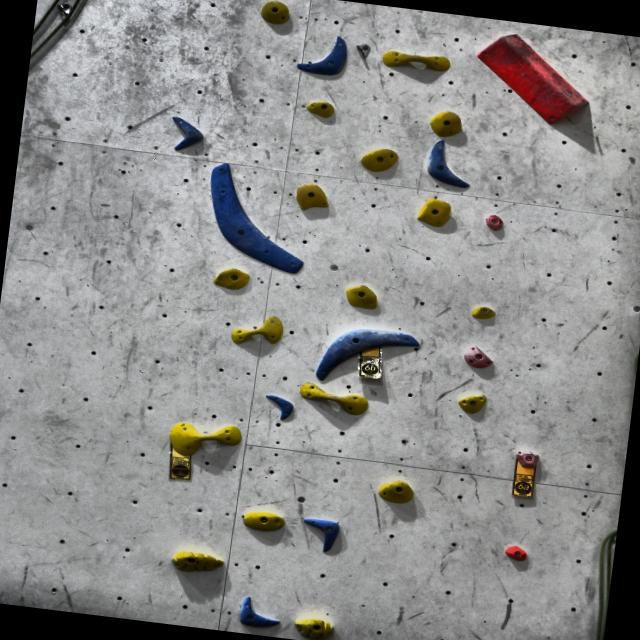Hold: (198, 160, 322, 283), (469, 28, 601, 130), (313, 320, 421, 392), (290, 24, 355, 82), (168, 415, 242, 460), (422, 137, 478, 191), (296, 382, 368, 418), (162, 546, 234, 578), (227, 311, 286, 348), (378, 44, 450, 74), (233, 596, 289, 632), (296, 516, 344, 552), (166, 114, 208, 154), (413, 194, 454, 230), (206, 266, 260, 293), (374, 472, 418, 504), (341, 282, 385, 312), (292, 613, 340, 640), (358, 144, 399, 175), (242, 509, 289, 535), (294, 181, 331, 213), (427, 109, 464, 139), (256, 0, 292, 28), (460, 343, 494, 371), (452, 388, 488, 414), (500, 538, 532, 564), (302, 95, 335, 118), (468, 302, 498, 324), (512, 448, 540, 469), (483, 212, 505, 234)
